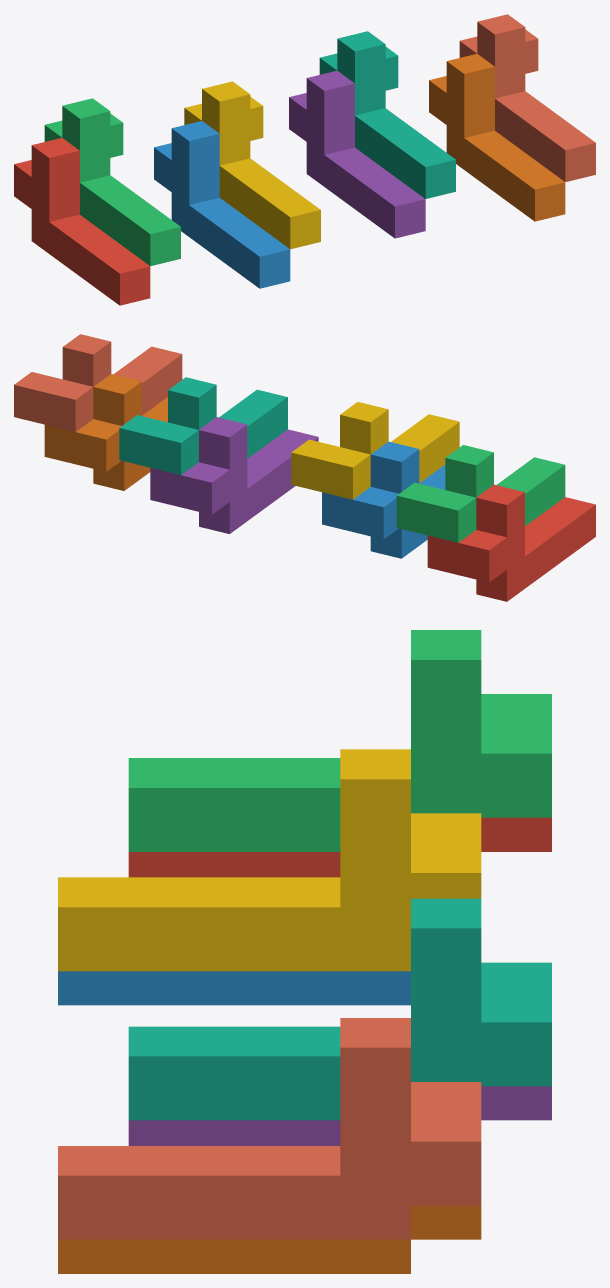
File: tiling.obj
The picture shows the model from 3 angles, top to bottom: view 1: azimuth 30°, elevation 25°; view 2: azimuth 150°, elevation 25°; view 3: azimuth 270°, elevation 25°; orthographic projection. The views are drawn at different scales.
Visible parts, largest first — view 1: copy_1_domain_1, copy_1_domain_5, copy_1_domain_2, copy_1_domain_6, copy_1_domain_4, copy_1_domain_8, copy_1_domain_3, copy_1_domain_7; view 2: copy_1_domain_1, copy_1_domain_5, copy_1_domain_3, copy_1_domain_7, copy_1_domain_8, copy_1_domain_4, copy_1_domain_2, copy_1_domain_6; view 3: copy_1_domain_8, copy_1_domain_4, copy_1_domain_7, copy_1_domain_3, copy_1_domain_6, copy_1_domain_2, copy_1_domain_5, copy_1_domain_1.
Boxes of the visible parts, left/top/right/bottom form: copy_1_domain_1: left=14, top=138, right=150, bottom=305; copy_1_domain_5: left=289, top=70, right=425, bottom=238; copy_1_domain_2: left=154, top=121, right=290, bottom=288; copy_1_domain_6: left=429, top=54, right=565, bottom=221; copy_1_domain_4: left=184, top=81, right=320, bottom=249; copy_1_domain_8: left=459, top=14, right=595, bottom=181; copy_1_domain_3: left=44, top=98, right=180, bottom=266; copy_1_domain_7: left=319, top=31, right=455, bottom=198; copy_1_domain_1: left=427, top=484, right=595, bottom=601; copy_1_domain_5: left=150, top=417, right=318, bottom=533; copy_1_domain_3: left=396, top=445, right=565, bottom=542; copy_1_domain_7: left=119, top=377, right=287, bottom=474; copy_1_domain_8: left=14, top=334, right=182, bottom=431; copy_1_domain_4: left=291, top=402, right=459, bottom=499; copy_1_domain_2: left=322, top=441, right=445, bottom=558; copy_1_domain_6: left=44, top=374, right=167, bottom=490; copy_1_domain_8: left=58, top=1018, right=481, bottom=1239; copy_1_domain_4: left=58, top=749, right=481, bottom=971; copy_1_domain_7: left=128, top=898, right=551, bottom=1120; copy_1_domain_3: left=128, top=630, right=551, bottom=851; copy_1_domain_6: left=58, top=1205, right=481, bottom=1273; copy_1_domain_2: left=58, top=971, right=410, bottom=1005; copy_1_domain_5: left=128, top=1086, right=551, bottom=1145; copy_1_domain_1: left=128, top=817, right=551, bottom=877.
Bounding box in the file's own units: 16 × 4 × 7.
